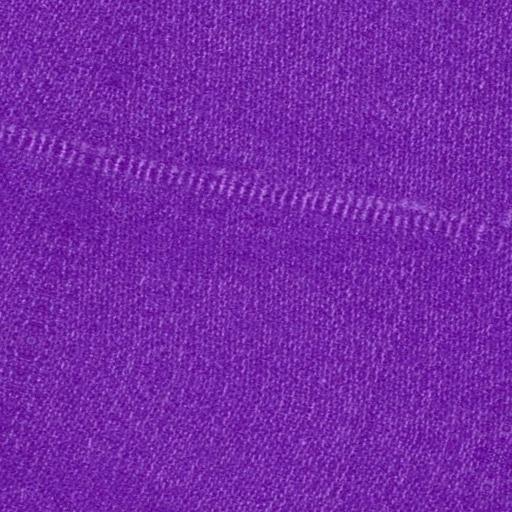slub: (0, 110, 511, 264)
